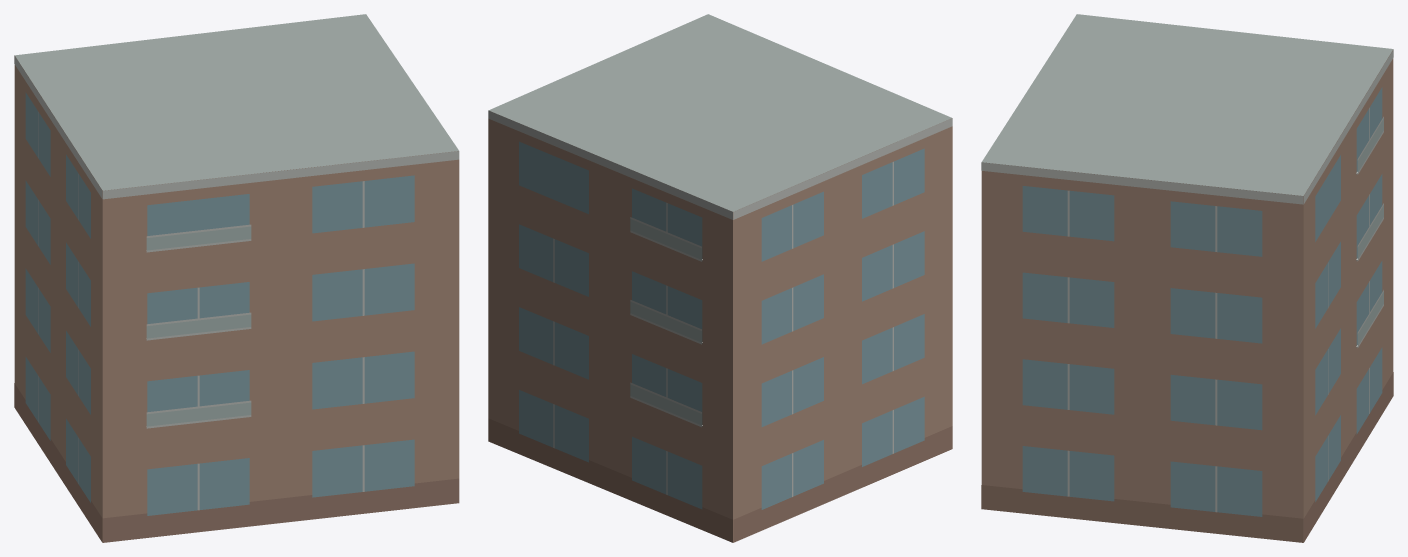
The model's file is survey-upis-32799754.glb.
3 renders of one model, left to right at view 1: azimuth 30°, elevation 25°; view 2: azimuth 150°, elevation 25°; view 3: azimuth 270°, elevation 25°, orthographic. The views are drawn at different scales.
Visible parts, largest first — view 1: survey-upis-32799754.tmp; view 2: survey-upis-32799754.tmp; view 3: survey-upis-32799754.tmp.
Boxes of the visible parts, x1,y1,x2,y2 form: survey-upis-32799754.tmp: (14,14,459,542); survey-upis-32799754.tmp: (488,14,952,542); survey-upis-32799754.tmp: (981,14,1393,542).
Bounding box in the file's own units: 11.09 × 9.85 × 10.61.
